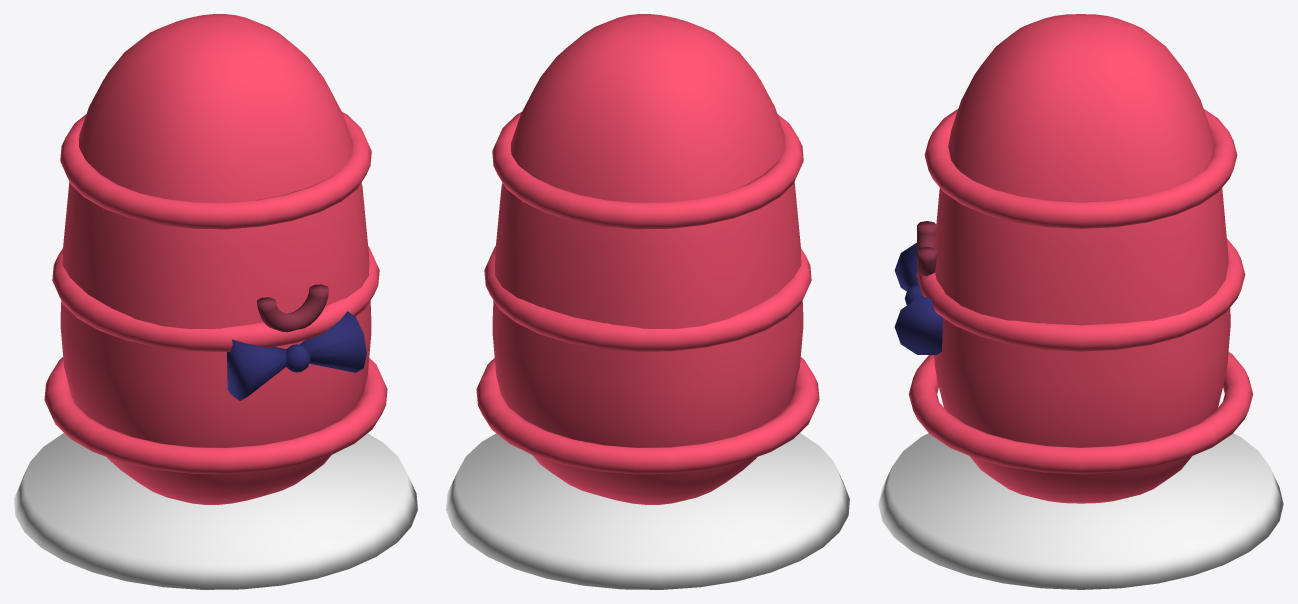
File: G07_Wobblesworth.fbx
3 renders of one model, left to right at view 1: azimuth 30°, elevation 25°; view 2: azimuth 150°, elevation 25°; view 3: azimuth 270°, elevation 25°, orthographic.
Parts seen in each view (by area): view 1: G07_Wobblesworth__Jelly, G07_Wobblesworth__Plate, G07_Wobblesworth__Bow, G07_Wobblesworth__Mouth; view 2: G07_Wobblesworth__Jelly, G07_Wobblesworth__Plate; view 3: G07_Wobblesworth__Jelly, G07_Wobblesworth__Plate, G07_Wobblesworth__Bow, G07_Wobblesworth__Mouth.
Part boxes in pixels (x1,y1,x2,y2): G07_Wobblesworth__Jelly: [44, 14, 387, 504]; G07_Wobblesworth__Plate: [14, 433, 417, 589]; G07_Wobblesworth__Bow: [227, 311, 366, 400]; G07_Wobblesworth__Mouth: [257, 284, 328, 332]; G07_Wobblesworth__Jelly: [476, 14, 819, 504]; G07_Wobblesworth__Plate: [446, 433, 849, 589]; G07_Wobblesworth__Jelly: [909, 14, 1252, 503]; G07_Wobblesworth__Plate: [878, 433, 1283, 589]; G07_Wobblesworth__Bow: [894, 242, 942, 354]; G07_Wobblesworth__Mouth: [917, 221, 936, 276].
Bounding box in the file's own units: 2 × 2.6 × 2.
